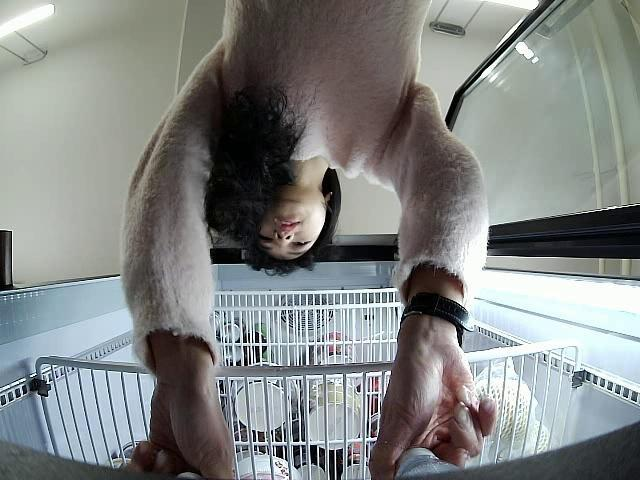18_trevi: (386, 444, 465, 480)
